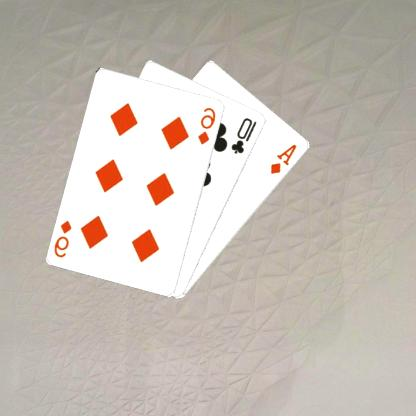10C: (230, 115, 260, 155)
6D: (197, 104, 219, 146), (54, 218, 75, 258)
AD: (270, 141, 300, 176)
